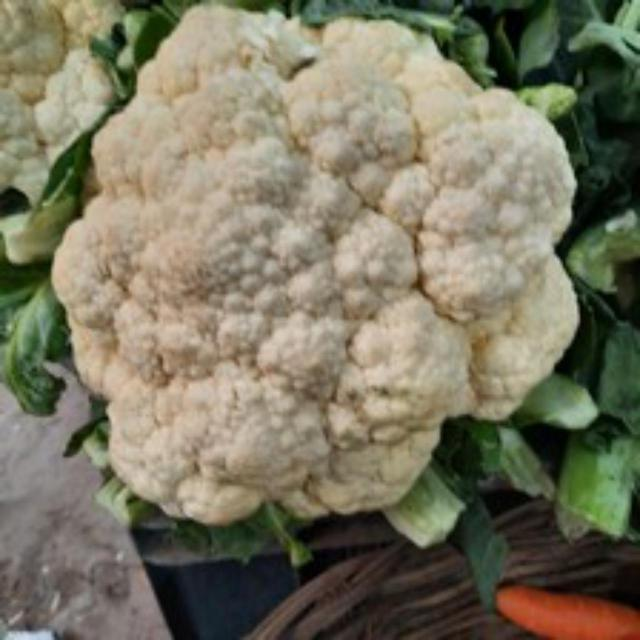cauliflower: (39, 0, 591, 532)
